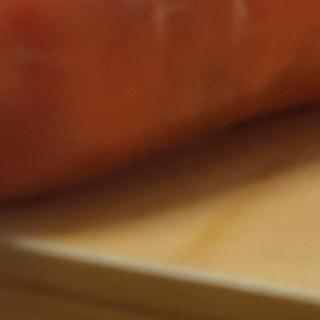carrot: (0, 0, 320, 207)
